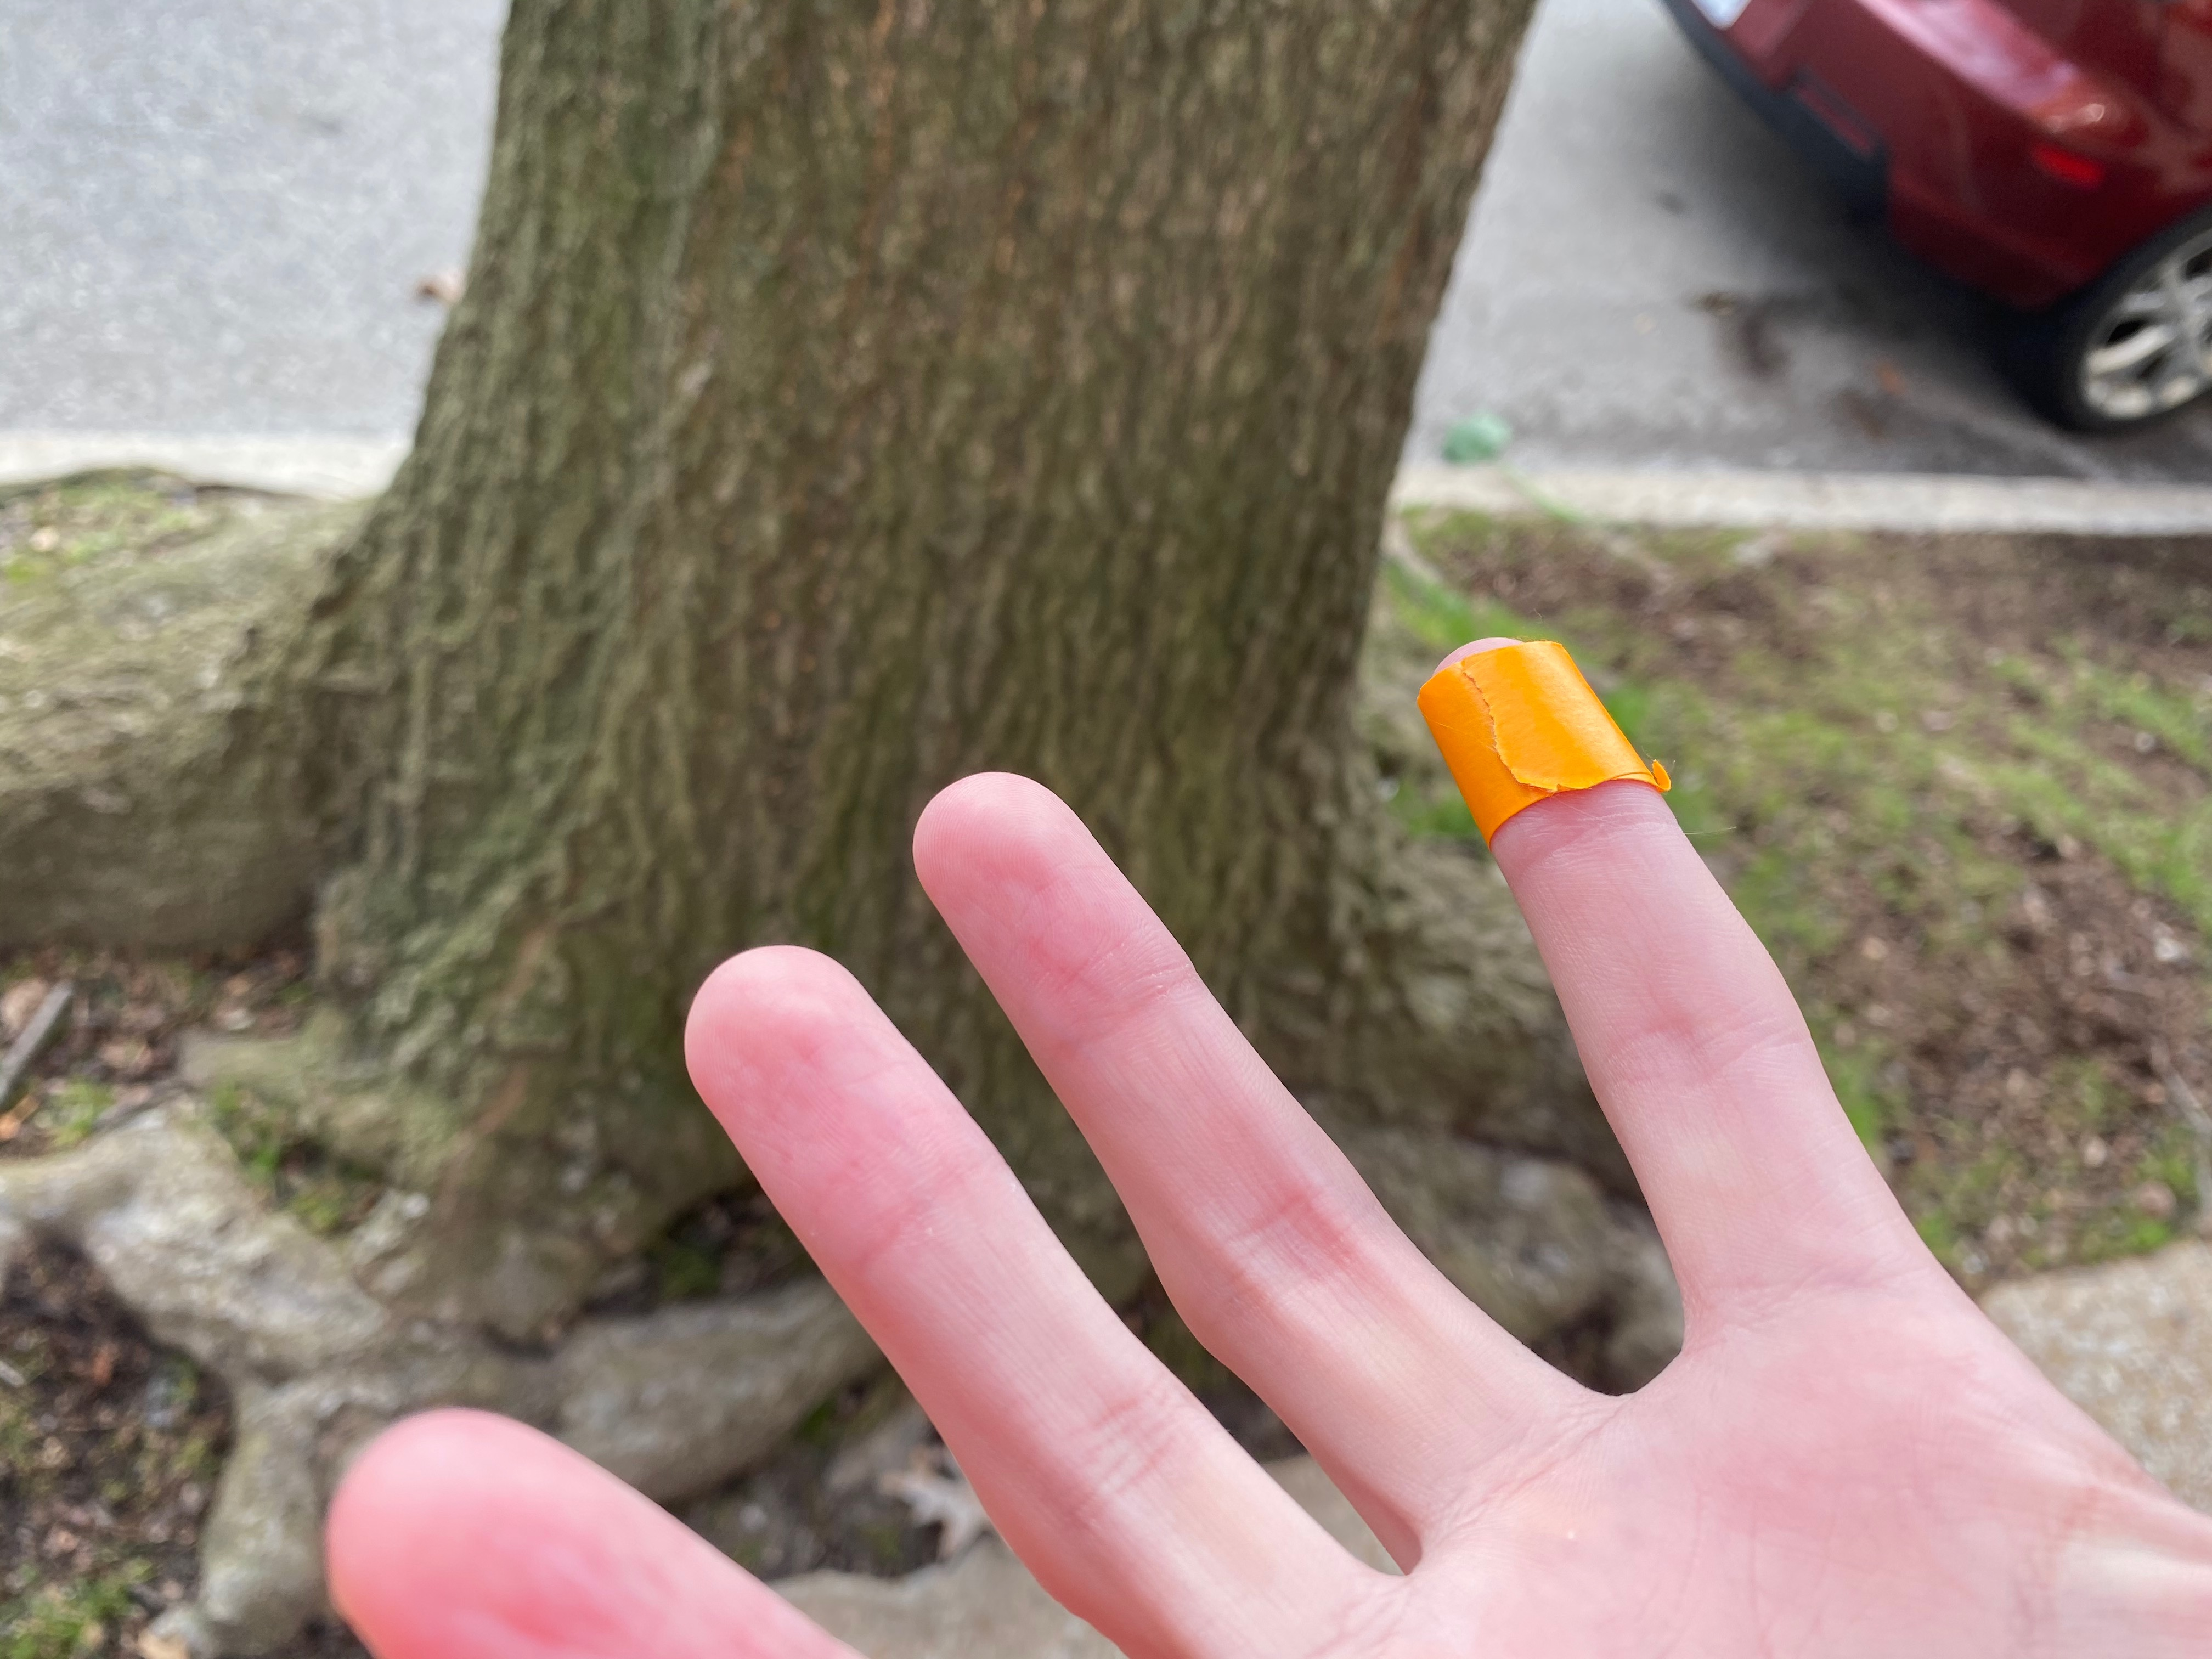fingertip: (1386, 617, 1716, 871)
